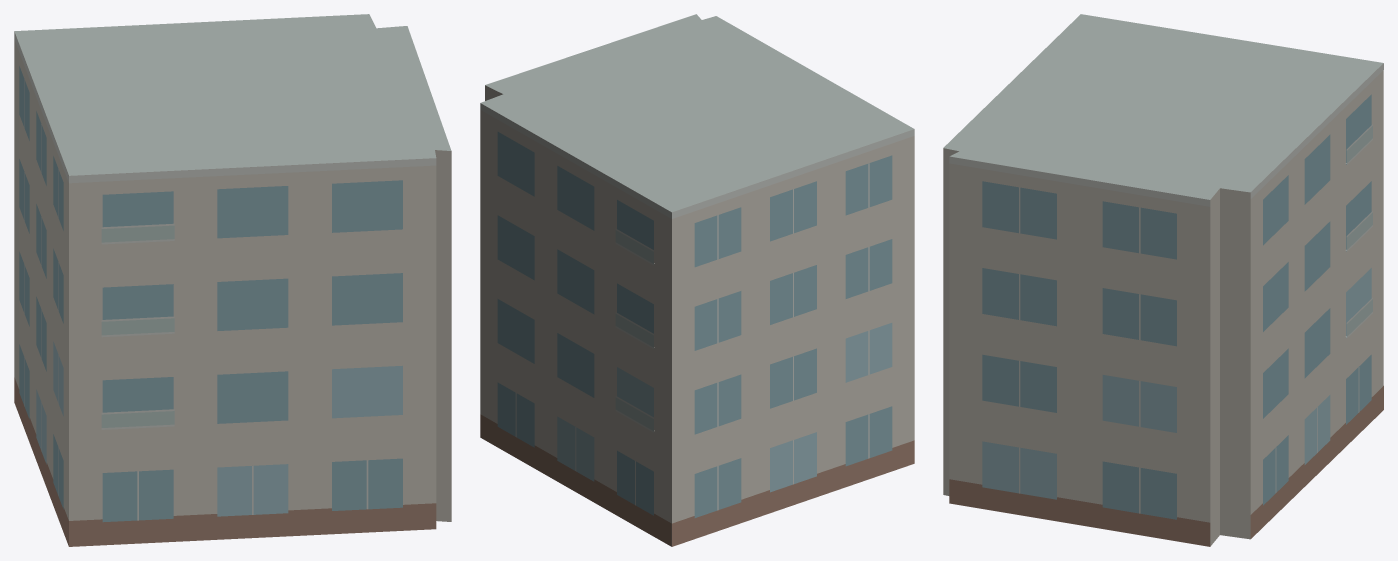
Rendered from survey-upis-32862929.glb.
3 views of the same model, side by side, from view 1: azimuth 30°, elevation 25°; view 2: azimuth 150°, elevation 25°; view 3: azimuth 270°, elevation 25° (orthographic). The views are drawn at different scales.
Parts seen in each view (by area): view 1: survey-upis-32862929.tmp; view 2: survey-upis-32862929.tmp; view 3: survey-upis-32862929.tmp.
Boxes of the visible parts, x1,y1,x2,y2 form: survey-upis-32862929.tmp: (14,14,451,546); survey-upis-32862929.tmp: (480,14,914,546); survey-upis-32862929.tmp: (943,14,1383,546).
Bounding box in the file's own units: 14.04 × 12.2 × 14.06.
